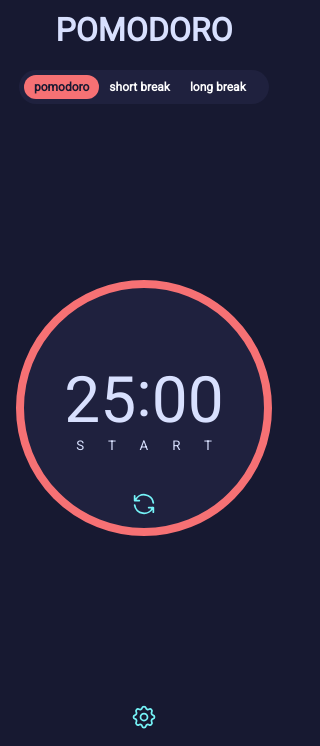
it: Pomodoro › should reset timer on manual tab change
Click the button with test id "toggle" at coordinates (144, 408), box [19, 283, 269, 533]
Wait 100000 ms
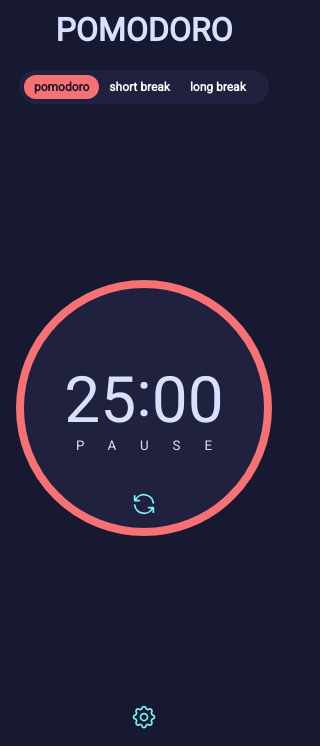
Click the button "short break" at coordinates (140, 87), box [99, 75, 180, 99]
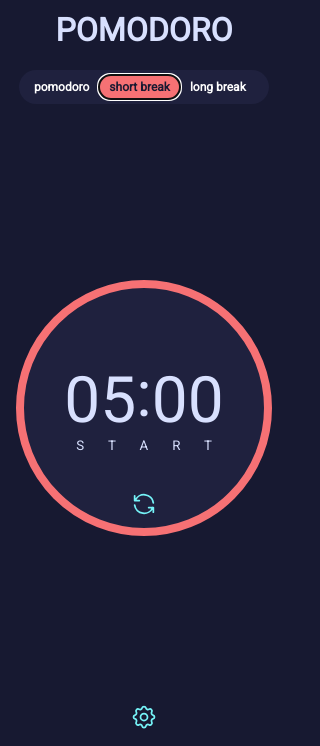
Now the element with test id "clock" reads "05:00", box [64, 363, 224, 438]
Click the button "pomodoro" at coordinates (62, 87), box [24, 75, 99, 99]
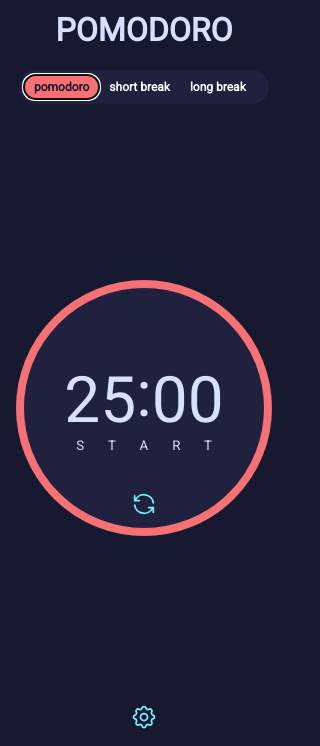
Now the element with test id "clock" reads "25:00", box [64, 363, 224, 438]
